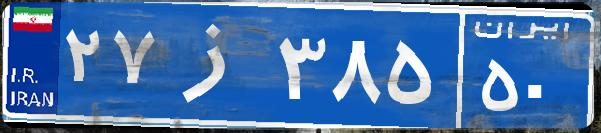0: (525, 38, 570, 115)
2: (57, 26, 110, 107)
3: (273, 28, 330, 110)
5: (385, 28, 445, 110), (475, 38, 525, 113)
7: (110, 28, 158, 105)
8: (330, 28, 385, 110)
ز: (158, 15, 273, 115)
